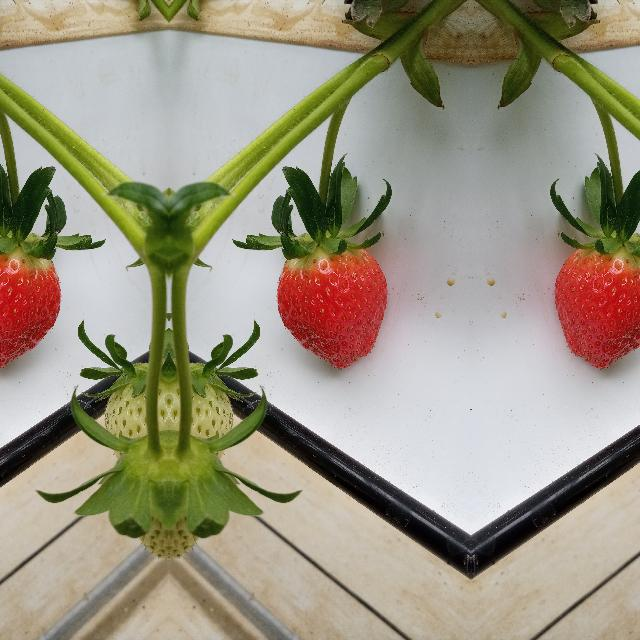Health_100: (274, 242, 388, 370), (553, 242, 640, 369), (0, 242, 61, 369)
